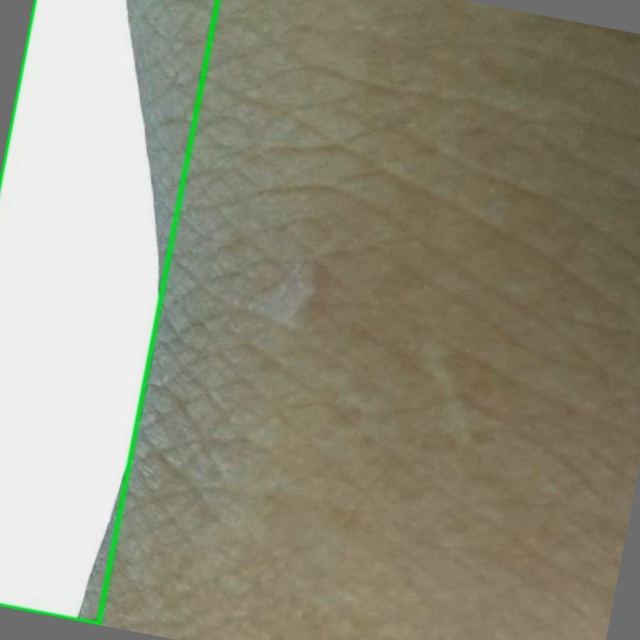Scabies: (0, 0, 217, 624)
